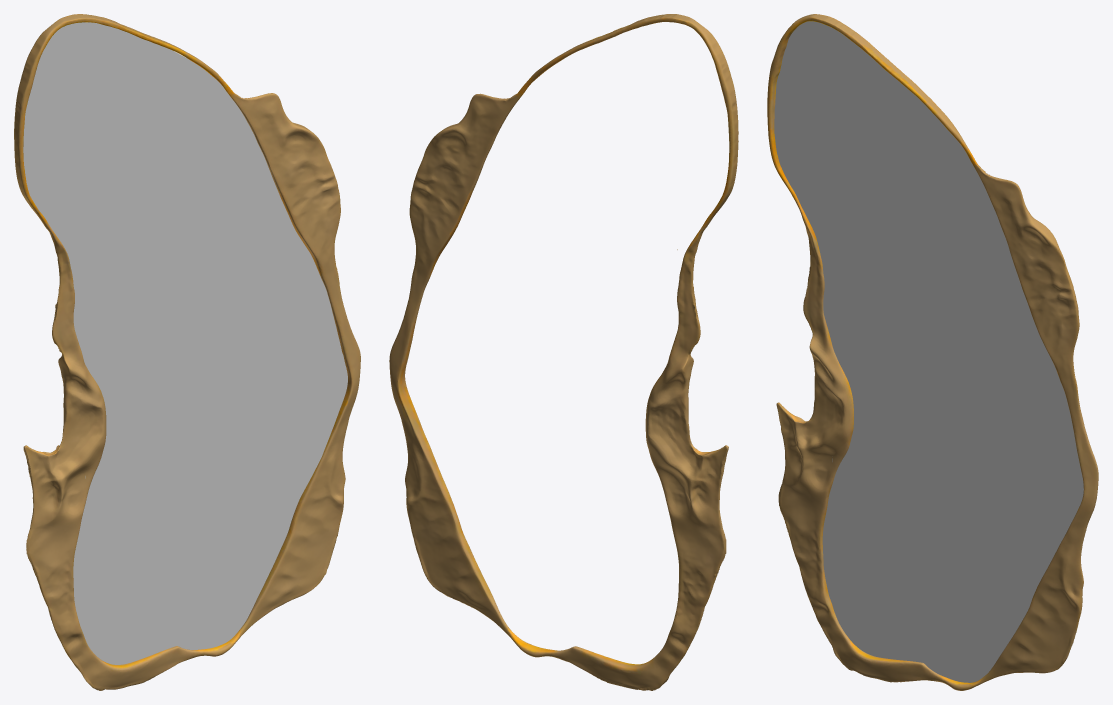
3 views of the same model, side by side, from view 1: azimuth 30°, elevation 25°; view 2: azimuth 150°, elevation 25°; view 3: azimuth 330°, elevation 25° (orthographic). The views are drawn at different scales.
Visible parts, largest first — view 1: Circle, tripo_node_dd285616-ad64-405d-870f-40b2a044d624; view 2: tripo_node_dd285616-ad64-405d-870f-40b2a044d624; view 3: Circle, tripo_node_dd285616-ad64-405d-870f-40b2a044d624.
Part boxes in pixels (box(x1,y1,x2,y2)): Circle: box(23, 22, 347, 664); tripo_node_dd285616-ad64-405d-870f-40b2a044d624: box(14, 14, 360, 690); tripo_node_dd285616-ad64-405d-870f-40b2a044d624: box(389, 14, 738, 690); Circle: box(774, 21, 1083, 682); tripo_node_dd285616-ad64-405d-870f-40b2a044d624: box(767, 14, 1098, 690).
Bounding box in the file's own units: 0.5295 × 1 × 0.031.
1 material, 1 textured.
